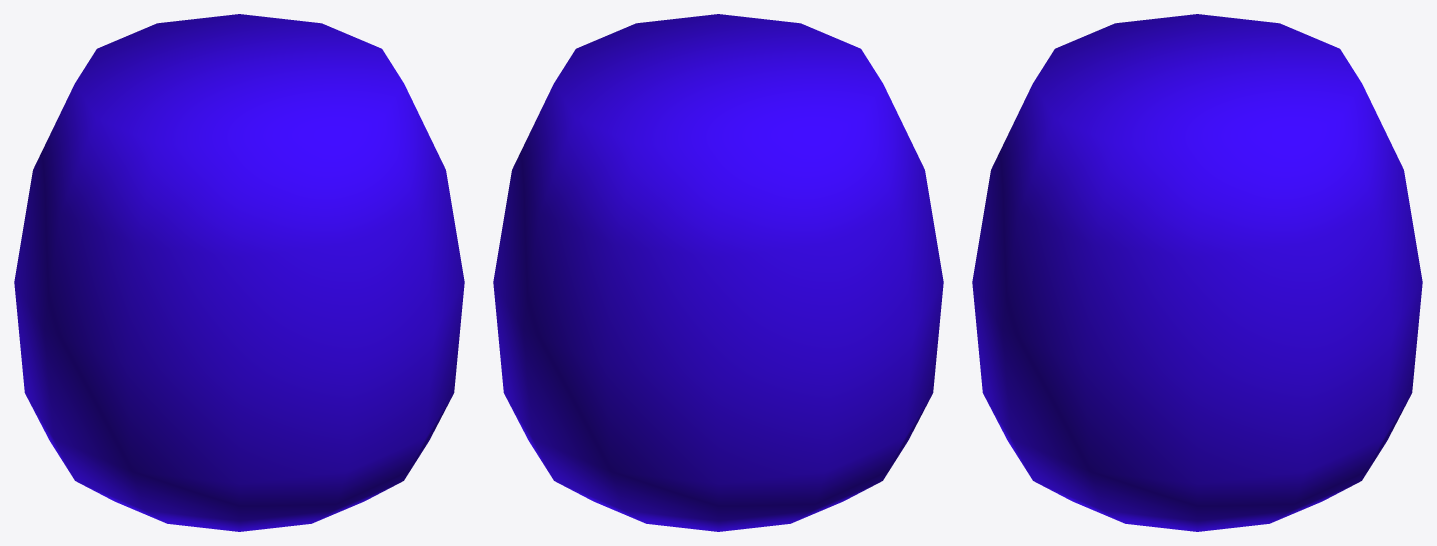
The model's file is office_pack_plant_B_smallPot_1_meshCollider.fbx.
3 views of the same model, side by side, from view 1: azimuth 30°, elevation 25°; view 2: azimuth 150°, elevation 25°; view 3: azimuth 270°, elevation 25° (orthographic).
Parts seen in each view (by area): view 1: office_pack_plant_B_smallPot_1_meshCollider; view 2: office_pack_plant_B_smallPot_1_meshCollider; view 3: office_pack_plant_B_smallPot_1_meshCollider.
Part boxes in pixels (x1,y1,x2,y2): office_pack_plant_B_smallPot_1_meshCollider: (14,14,464,531); office_pack_plant_B_smallPot_1_meshCollider: (493,14,943,531); office_pack_plant_B_smallPot_1_meshCollider: (972,14,1422,531).
Bounding box in the file's own units: 25.95 × 24.63 × 25.95.
